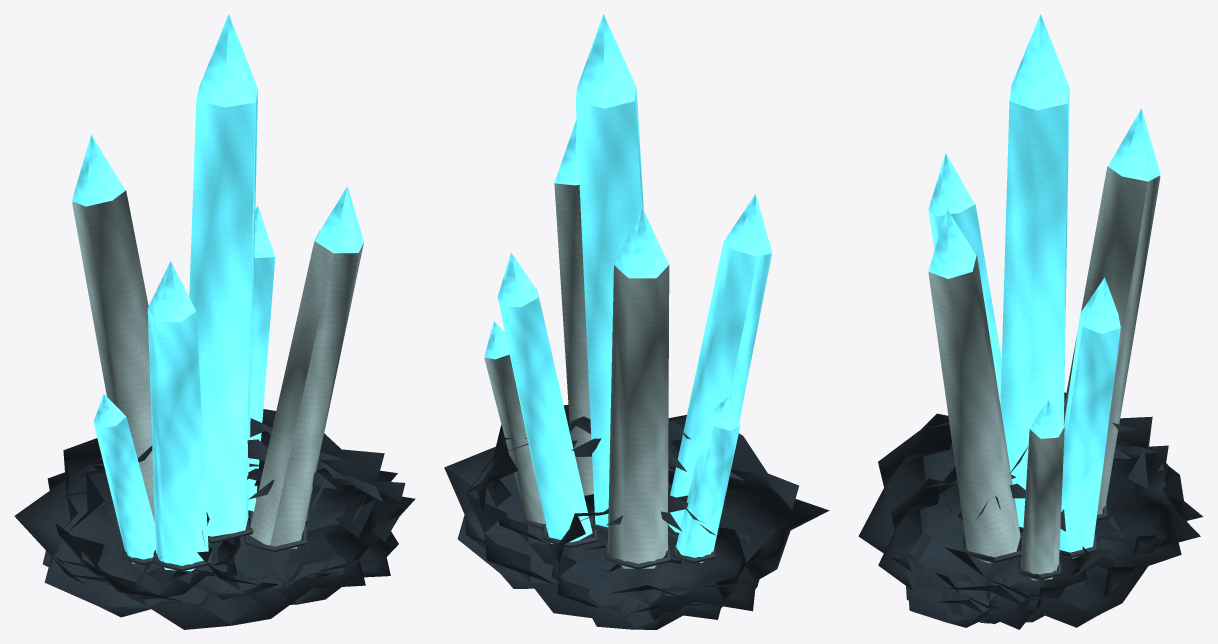
Rendered from crystal_spire.glb.
3 renders of one model, left to right at view 1: azimuth 30°, elevation 25°; view 2: azimuth 150°, elevation 25°; view 3: azimuth 270°, elevation 25°, orthographic.
Parts seen in each view (by area): view 1: crystal_spire; view 2: crystal_spire; view 3: crystal_spire.
Boxes of the visible parts, x1=… form: crystal_spire: x1=14, y1=14, x2=415, y2=629; crystal_spire: x1=444, y1=14, x2=829, y2=629; crystal_spire: x1=858, y1=14, x2=1203, y2=629.
Size of the model in its own units: 3.29 by 5.5 by 2.92.
Materials: 1 (1 with a texture image).
